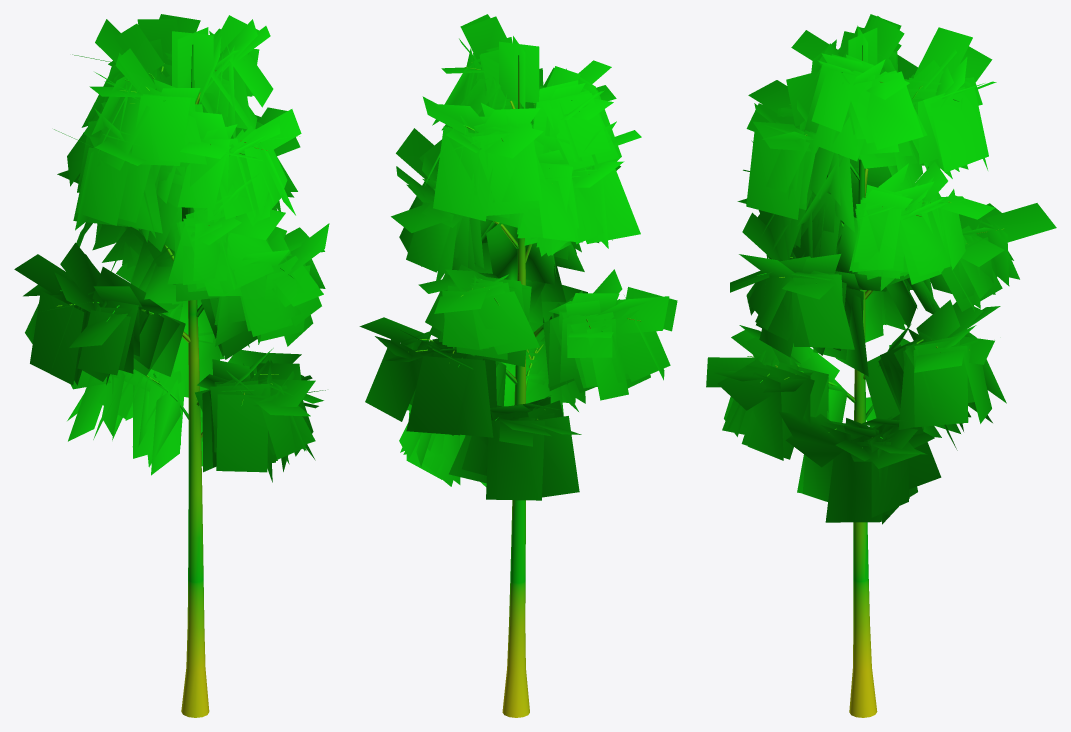
File: tree_birch_a.glb
3 views of the same model, side by side, from view 1: azimuth 30°, elevation 25°; view 2: azimuth 150°, elevation 25°; view 3: azimuth 270°, elevation 25° (orthographic).
Visible parts, largest first — view 1: tree_birch_a.1, tree_birch_a.0; view 2: tree_birch_a.1, tree_birch_a.0; view 3: tree_birch_a.1, tree_birch_a.0.
Boxes of the visible parts, left/top/right/bottom form: tree_birch_a.1: left=14, top=14, right=329, bottom=482; tree_birch_a.0: left=57, top=44, right=294, bottom=717; tree_birch_a.1: left=359, top=14, right=677, bottom=500; tree_birch_a.0: left=415, top=55, right=641, bottom=717; tree_birch_a.1: left=706, top=14, right=1056, bottom=524; tree_birch_a.0: left=747, top=45, right=1004, bottom=717.
Size of the model in its own units: 6.02 by 14.12 by 6.61.
